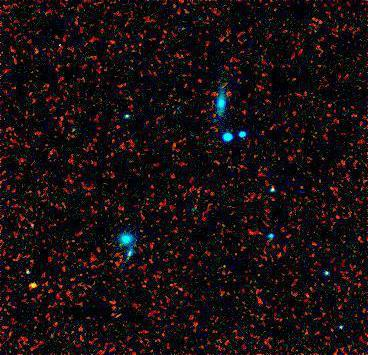star: (17, 270, 47, 300)
